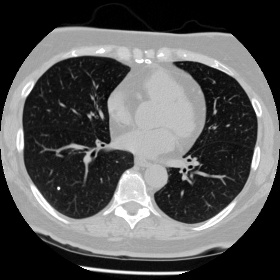PN: (56, 186, 60, 190)
